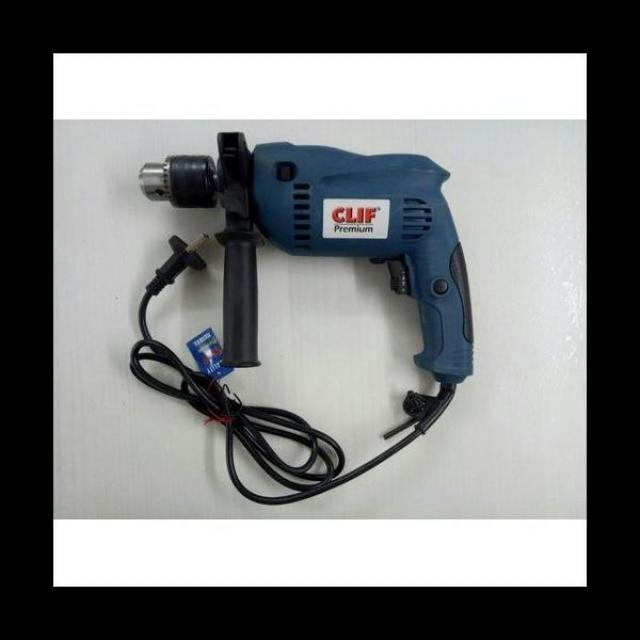drill: (138, 132, 474, 434)
